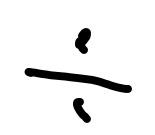div: (24, 27, 133, 123)
